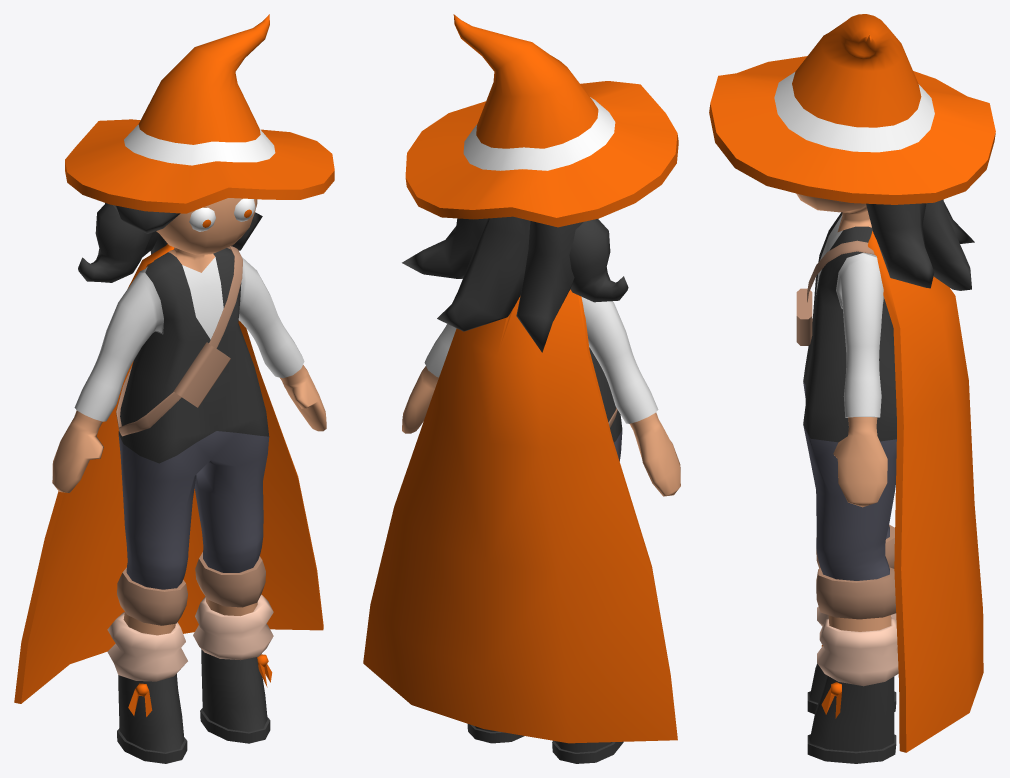
The model's file is FireMage(noUV).fbx.
3 views of the same model, side by side, from view 1: azimuth 30°, elevation 25°; view 2: azimuth 150°, elevation 25°; view 3: azimuth 270°, elevation 25° (orthographic). The views are drawn at different scales.
Parts seen in each view (by area): view 1: FireMage; view 2: FireMage; view 3: FireMage.
Part boxes in pixels (box(x1,y1,x2,y2)): FireMage: box(14, 14, 334, 763); FireMage: box(363, 14, 680, 763); FireMage: box(709, 14, 995, 763).
Size of the model in its own units: 11.23 by 24.15 by 8.51.
